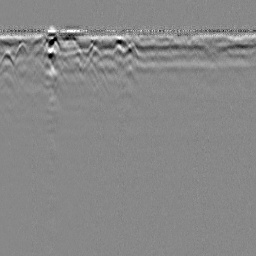cavity: (123, 40, 139, 60)
